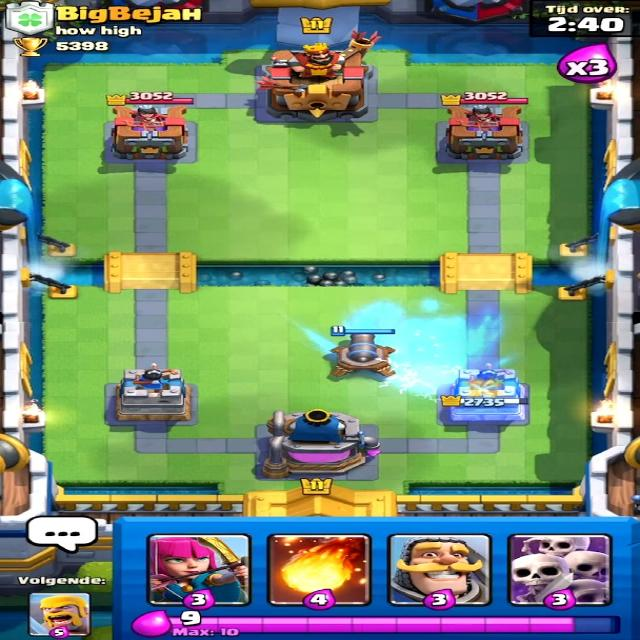Cannon_Troop: (325, 325, 399, 381)
Fireball_Card: (258, 531, 368, 607)
